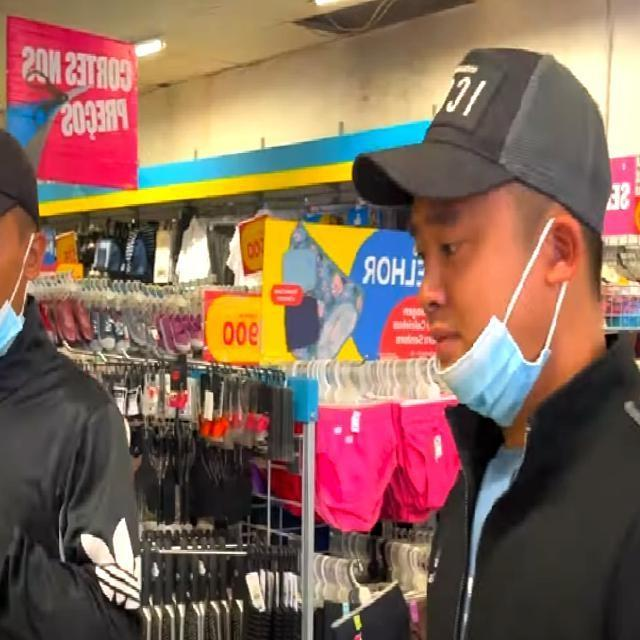hairnet: (408, 206, 554, 424)
